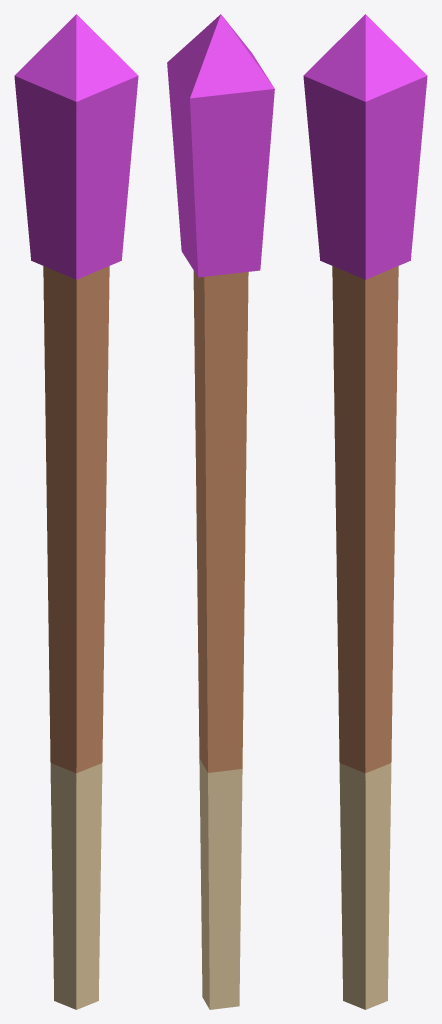
Rendered from staff.glb.
3 views of the same model, side by side, from view 1: azimuth 90°, elevation 25°; view 2: azimuth 150°, elevation 25°; view 3: azimuth 270°, elevation 25° (orthographic).
Visible parts, largest first — view 1: hilt_smooth, blade_skew; view 2: hilt_smooth, blade_skew; view 3: hilt_smooth, blade_skew.
Part boxes in pixels (x1,y1,x2,y2): hilt_smooth: [43, 266, 109, 1009]; blade_skew: [14, 14, 138, 279]; hilt_smooth: [193, 271, 248, 1009]; blade_skew: [167, 14, 274, 277]; hilt_smooth: [332, 266, 398, 1009]; blade_skew: [303, 14, 427, 279].
Bounding box in the file's own units: 0.0457 × 0.4 × 0.0456.
